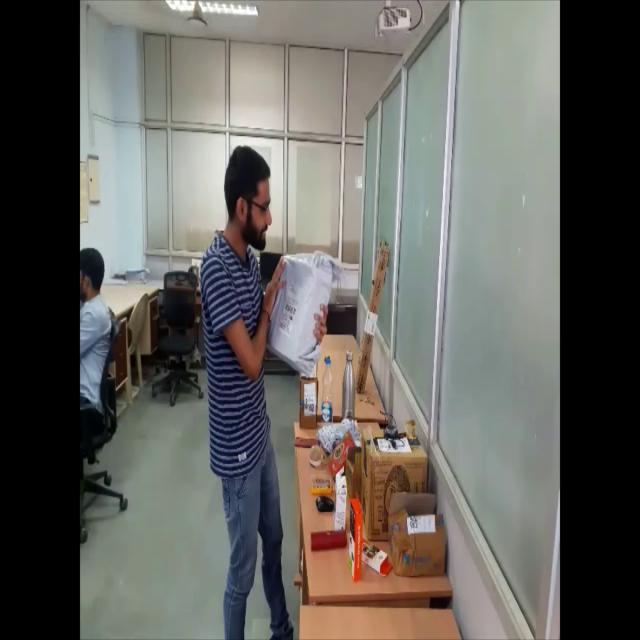normal: (196, 146, 340, 639)
